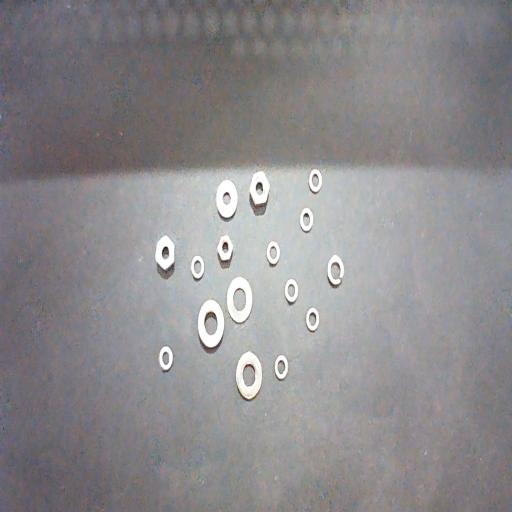nut: (249, 171, 270, 211), (156, 236, 174, 274), (217, 236, 233, 264)
washer: (198, 300, 224, 348), (236, 352, 262, 399), (226, 276, 252, 322), (216, 180, 237, 218), (327, 256, 344, 285), (159, 346, 173, 371), (266, 241, 280, 265), (309, 168, 322, 192), (300, 208, 313, 232), (285, 279, 298, 303), (306, 307, 319, 331), (275, 355, 288, 379), (191, 255, 204, 278)
